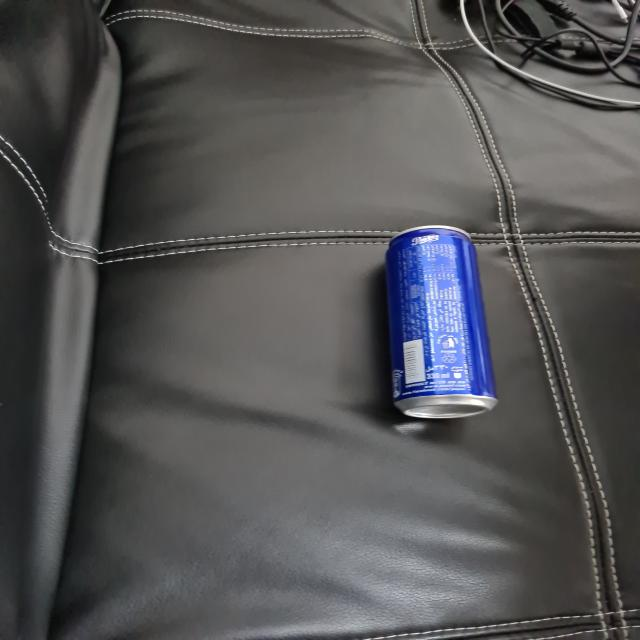non-organic waste: (380, 222, 506, 426)
